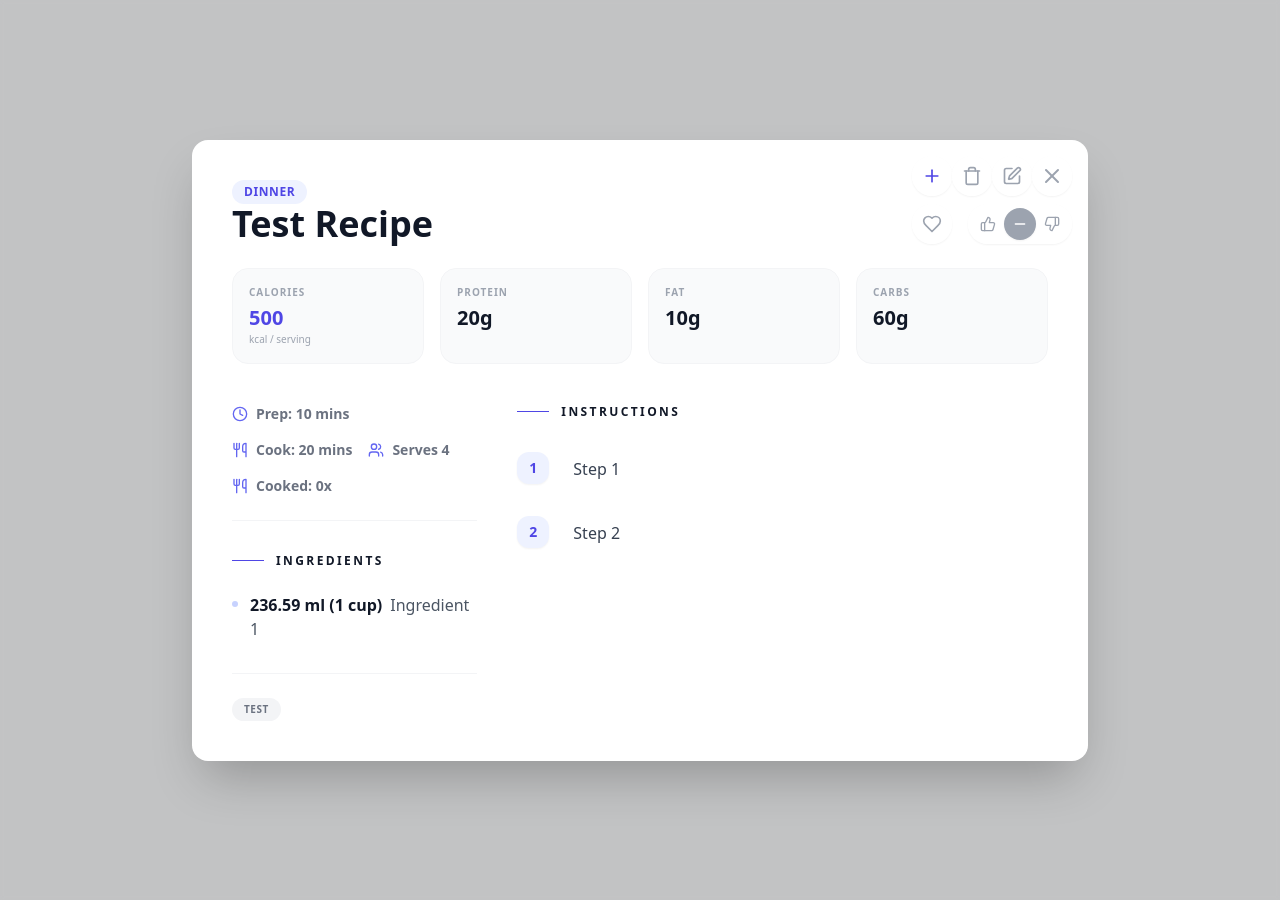
Test case: RecipeModal › can enter edit mode and save changes
The width and height of the screenshot is (1280, 900).
Step 1. Click the button titled "Edit Recipe" → (1012, 176), box [992, 156, 1032, 196]
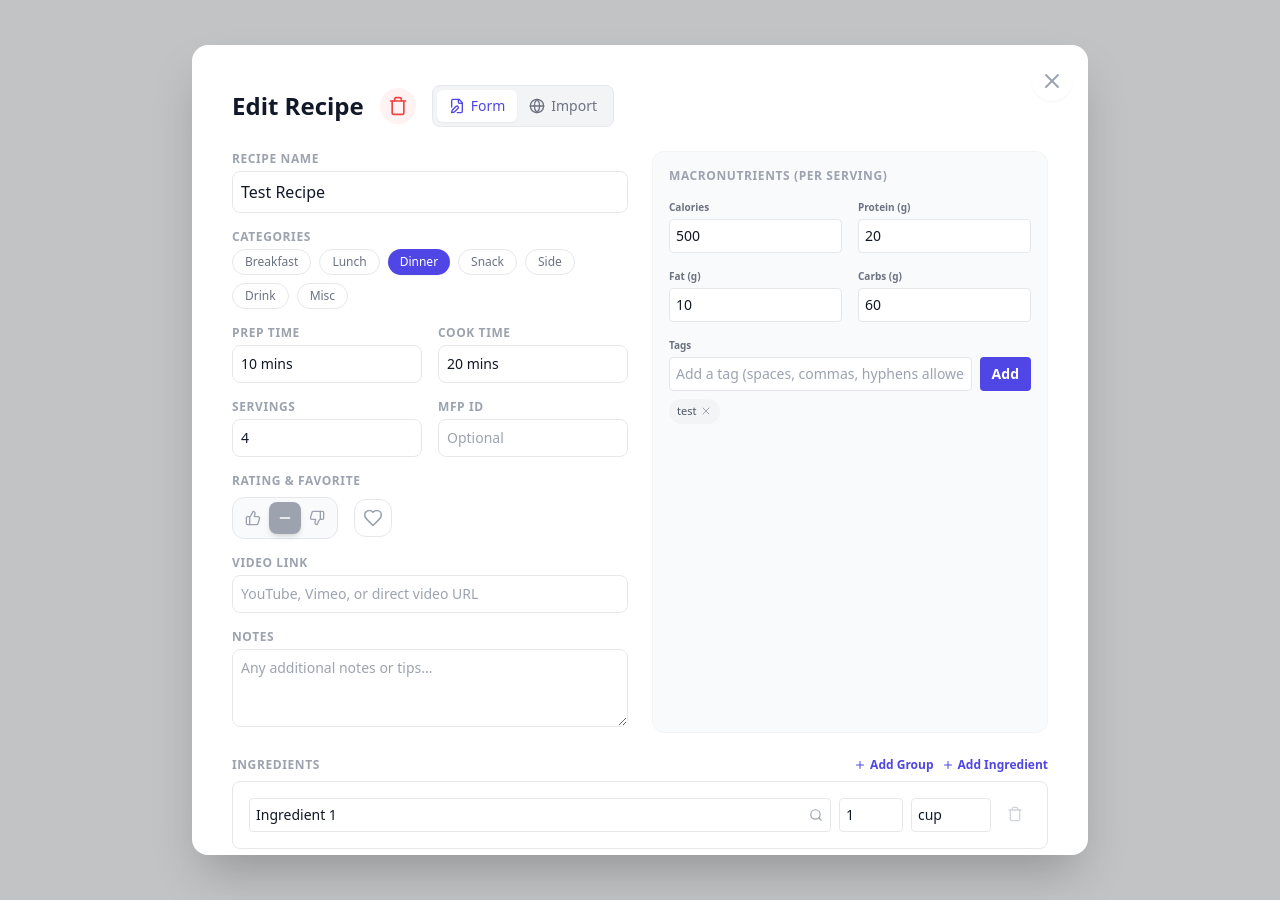
Step 2. Replace the text in the field showing "Test Recipe" below "Recipe Name" with "Updated Recipe" → (430, 192), box [232, 171, 628, 213]
(page scrolled)
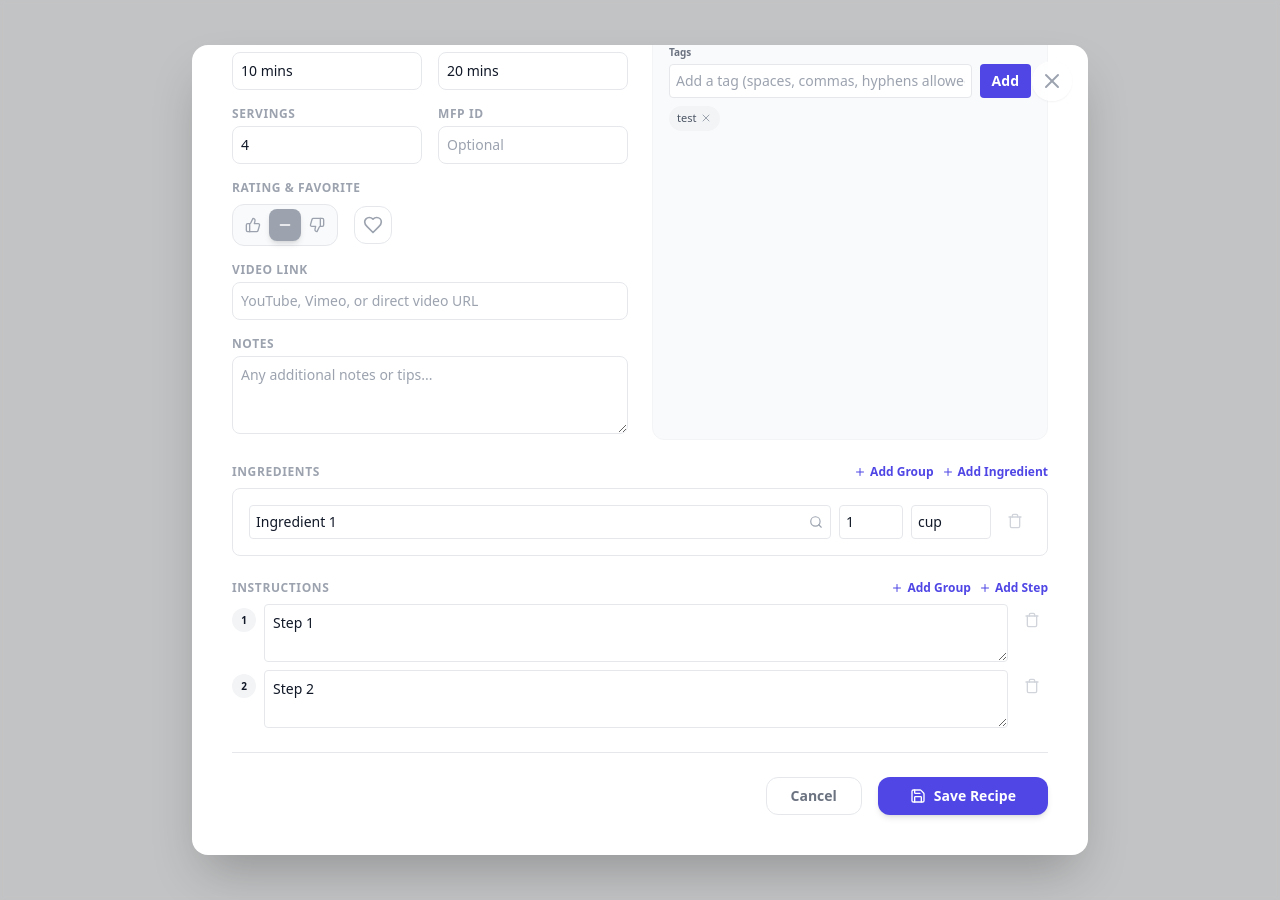
Step 3. Click the button "Save Recipe" → (963, 796), box [878, 777, 1048, 815]
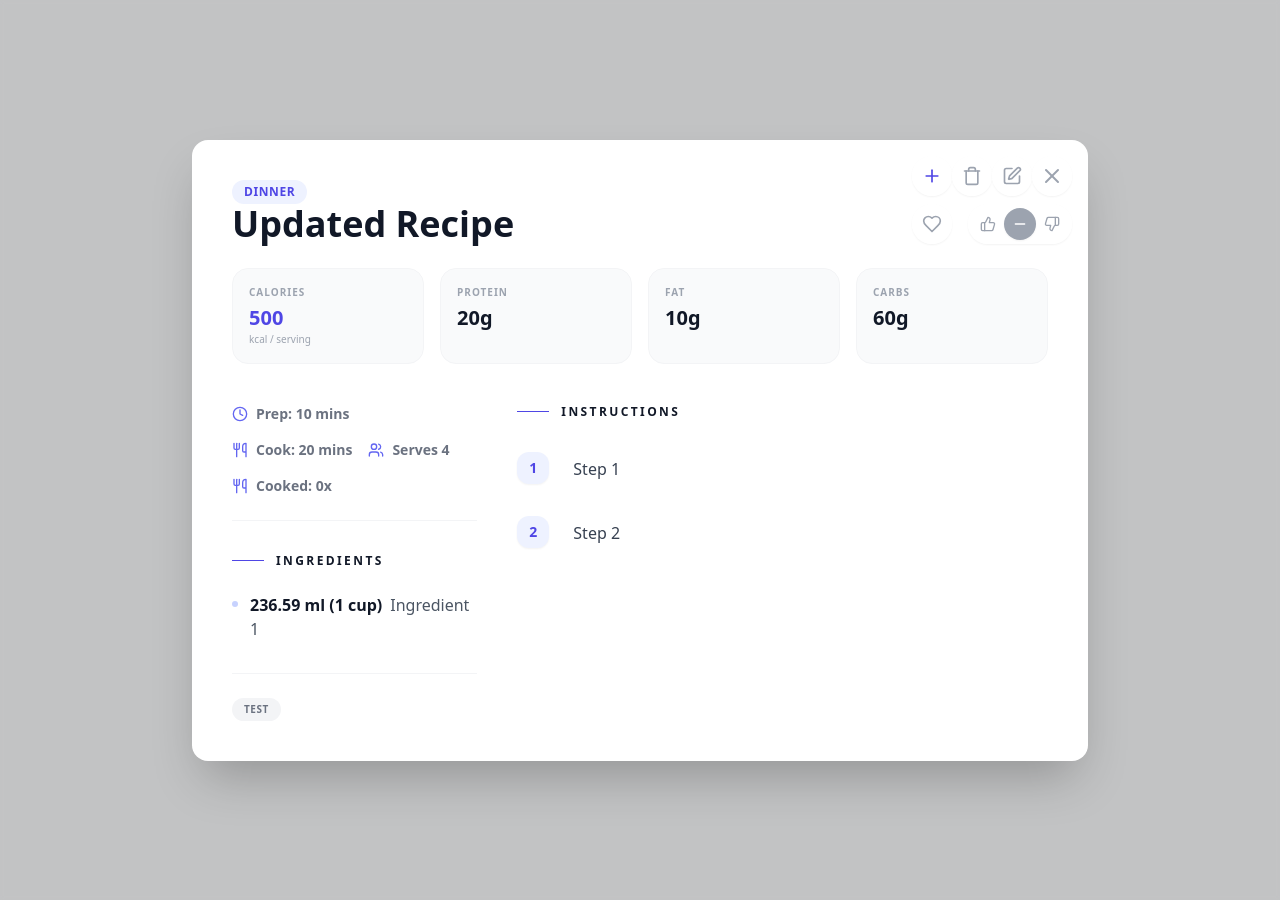
Check: the heading "Updated Recipe" is shown, box [232, 198, 514, 248]
